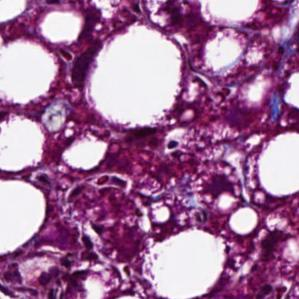inflammation: (58, 229, 133, 286), (184, 156, 248, 210), (91, 170, 158, 214)
